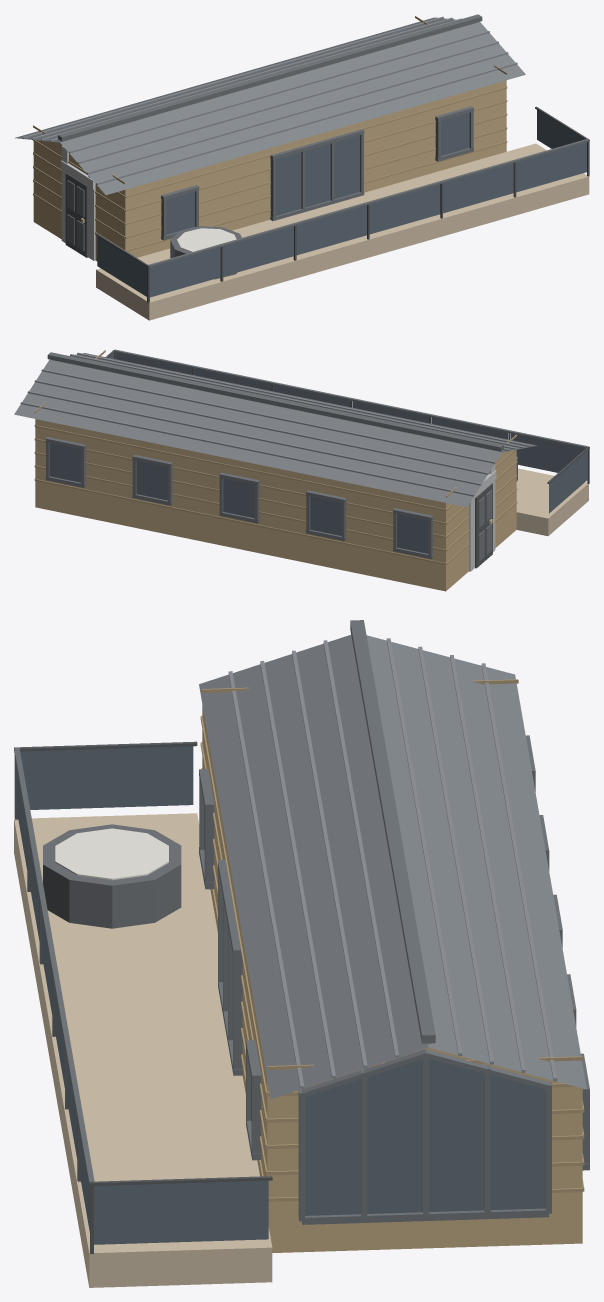
3 views of the same model, one above another, from view 1: azimuth 30°, elevation 25°; view 2: azimuth 150°, elevation 25°; view 3: azimuth 270°, elevation 25° (orthographic). The views are drawn at different scales.
Visible parts, largest first — view 1: slate, door_wood, larch, slate_dk, slate_lt, door_wood_p, window_glass_004, window_glass_002, window_glass_005, window_glass_006, window_glass_001, window_glass_003 (+13 smaller); view 2: door_wood, slate, slate_dk, slate_lt, door_wood_p, larch, window_glass_001, window_glass_007, window_glass_017, window_glass_016, window_glass_018, window_glass_019 (+10 smaller); view 3: slate, larch, window_glass_014, slate_dk, door_wood, slate_lt, window_glass_008, window_glass_007, band_dark, string, door_wood_p, pipe.
Part boxes in pixels (x1,y1,x2,y2): slate: (15, 17, 525, 194); door_wood: (33, 80, 506, 261); larch: (96, 143, 589, 320); slate_dk: (58, 14, 589, 267); slate_lt: (22, 16, 517, 184); door_wood_p: (33, 16, 507, 251); window_glass_004: (369, 184, 440, 234); window_glass_002: (223, 226, 293, 276); window_glass_005: (443, 163, 513, 213); window_glass_006: (516, 142, 586, 192); window_glass_001: (150, 247, 220, 297); window_glass_003: (296, 205, 366, 255); door_wood: (35, 419, 516, 591); slate: (14, 353, 536, 506); slate_dk: (45, 349, 588, 558); slate_lt: (20, 352, 530, 496); door_wood_p: (34, 350, 517, 564); larch: (516, 468, 588, 536); window_glass_001: (511, 433, 585, 472); window_glass_007: (549, 450, 587, 513); window_glass_017: (223, 478, 254, 518); window_glass_016: (136, 461, 167, 500); window_glass_018: (310, 496, 341, 535); window_glass_019: (397, 514, 428, 553); slate: (199, 635, 586, 1098); larch: (14, 813, 272, 1287); window_glass_014: (305, 1059, 545, 1215); slate_dk: (14, 620, 589, 1224); door_wood: (202, 705, 582, 1252); slate_lt: (228, 638, 557, 1088); window_glass_008: (94, 1180, 268, 1244); window_glass_007: (20, 746, 193, 809); band_dark: (43, 824, 181, 928); string: (55, 828, 168, 880); door_wood_p: (200, 679, 584, 1201); pipe: (14, 741, 272, 1253).
Size of the model in its own units: 13.66 by 3.35 by 7.53.
